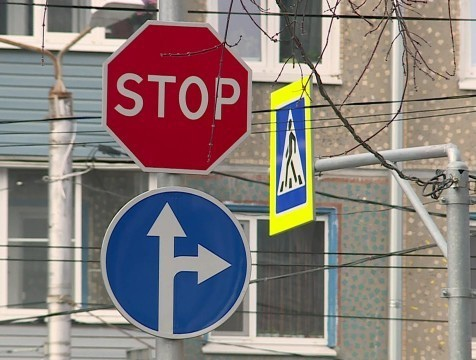ileri_veya_saga: (103, 185, 251, 340)
yaya_gecidi: (256, 80, 323, 234)
